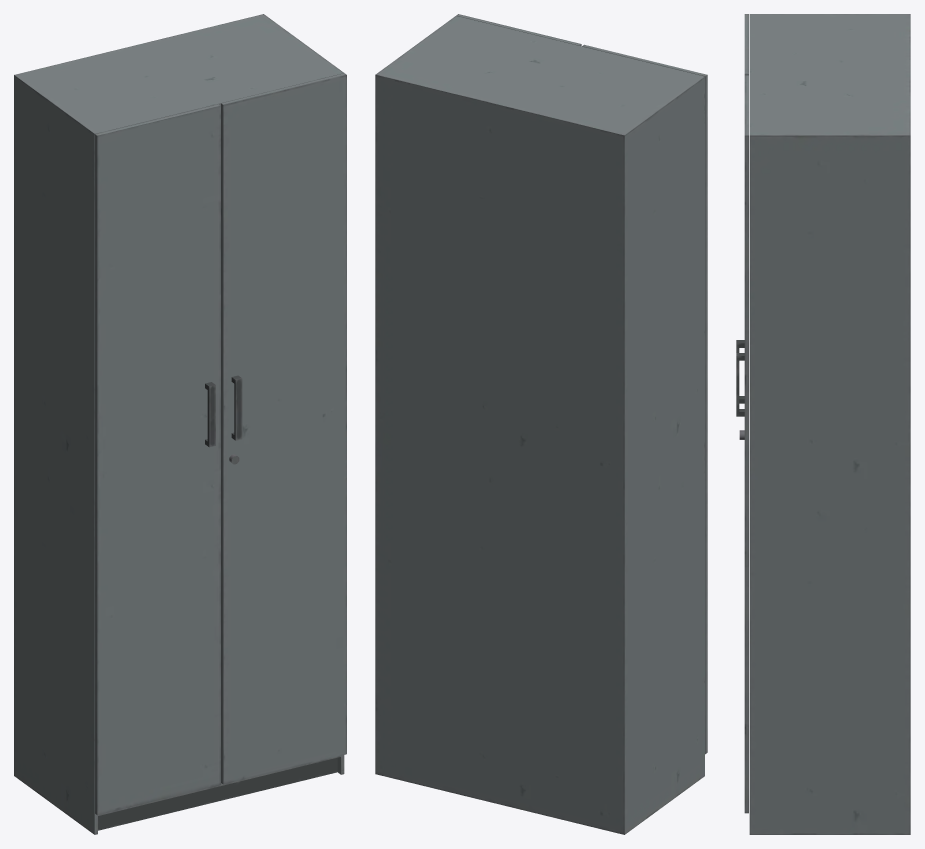
File: Cleaning Cabinet.glb
The picture shows the model from 3 angles, left to right: view 1: azimuth 30°, elevation 25°; view 2: azimuth 150°, elevation 25°; view 3: azimuth 270°, elevation 25°; orthographic projection.
Parts seen in each view (by area): view 1: Cabinet_Door.R, cabinet_Door.L, Cabinet; view 2: Cabinet, cabinet_Door.L; view 3: Cabinet, Cabinet_Door.R, cabinet_Door.L.
Boxes of the visible parts, x1,y1,x2,y2 form: Cabinet_Door.R: (221, 73, 346, 784); cabinet_Door.L: (95, 104, 220, 814); Cabinet: (14, 14, 344, 834); Cabinet: (375, 16, 704, 834); cabinet_Door.L: (582, 44, 707, 754); Cabinet: (749, 14, 910, 834); Cabinet_Door.R: (736, 75, 748, 813); cabinet_Door.L: (736, 14, 748, 403).
Size of the model in its own units: 0.7457 by 2 by 0.4516.
2 materials, 2 textured.
